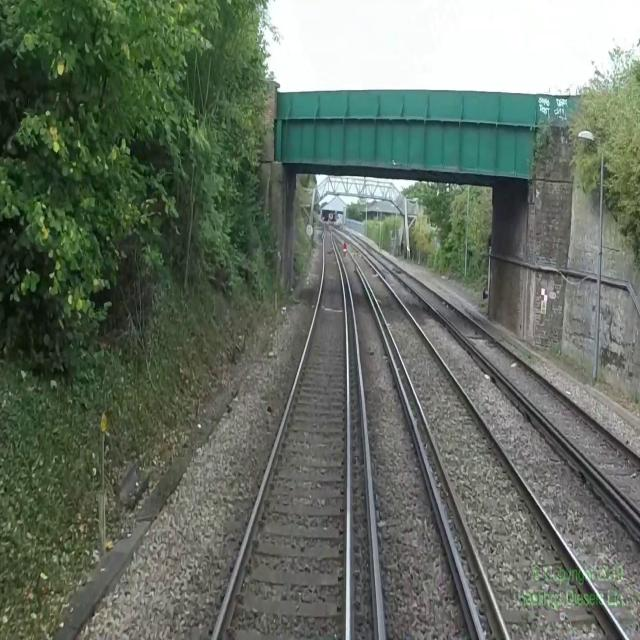rail-track: (330, 223, 640, 516), (216, 228, 346, 639)
